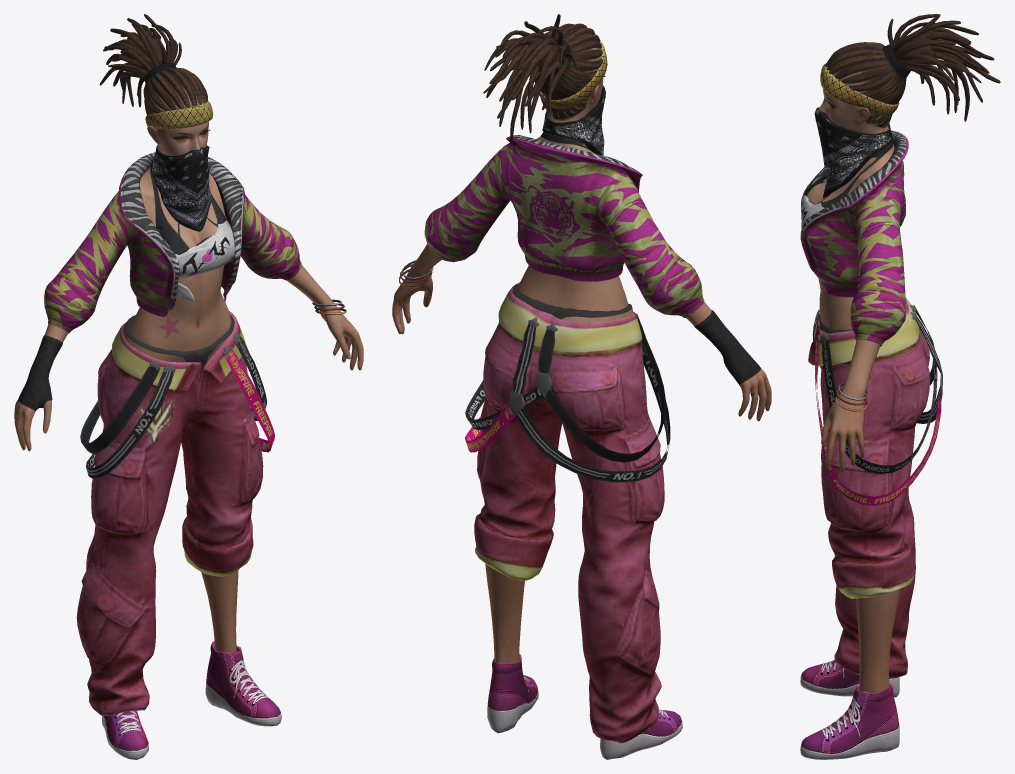
The model's file is free_fire_female_hip_hop_bundle_3d_model.glb.
The picture shows the model from 3 angles, left to right: view 1: azimuth 30°, elevation 25°; view 2: azimuth 150°, elevation 25°; view 3: azimuth 270°, elevation 25°; orthographic projection. The views are drawn at different scales.
Parts seen in each view (by area): view 1: Object_4, Object_5, Object_2, Object_7, Object_3, Object_6; view 2: Object_4, Object_5, Object_2, Object_7, Object_3, Object_6; view 3: Object_4, Object_5, Object_2, Object_7, Object_3, Object_6.
Part boxes in pixels (x1,y1,x2,y2): Object_4: (76,311,274,715); Object_5: (15,144,346,420); Object_2: (14,121,363,654); Object_7: (99,14,207,141); Object_3: (102,640,281,759); Object_6: (145,101,212,129); Object_4: (465,282,670,743); Object_5: (399,85,761,396); Object_2: (392,42,771,663); Object_7: (483,14,602,142); Object_3: (487,654,682,759); Object_6: (534,41,607,108); Object_4: (808,298,942,678); Object_5: (800,107,908,411); Object_2: (807,89,900,692); Object_7: (825,14,1000,127); Object_3: (800,660,899,759); Object_6: (820,63,899,115).
Size of the model in its own units: 4.9 by 9.33 by 2.38.
6 materials, 6 textured.
